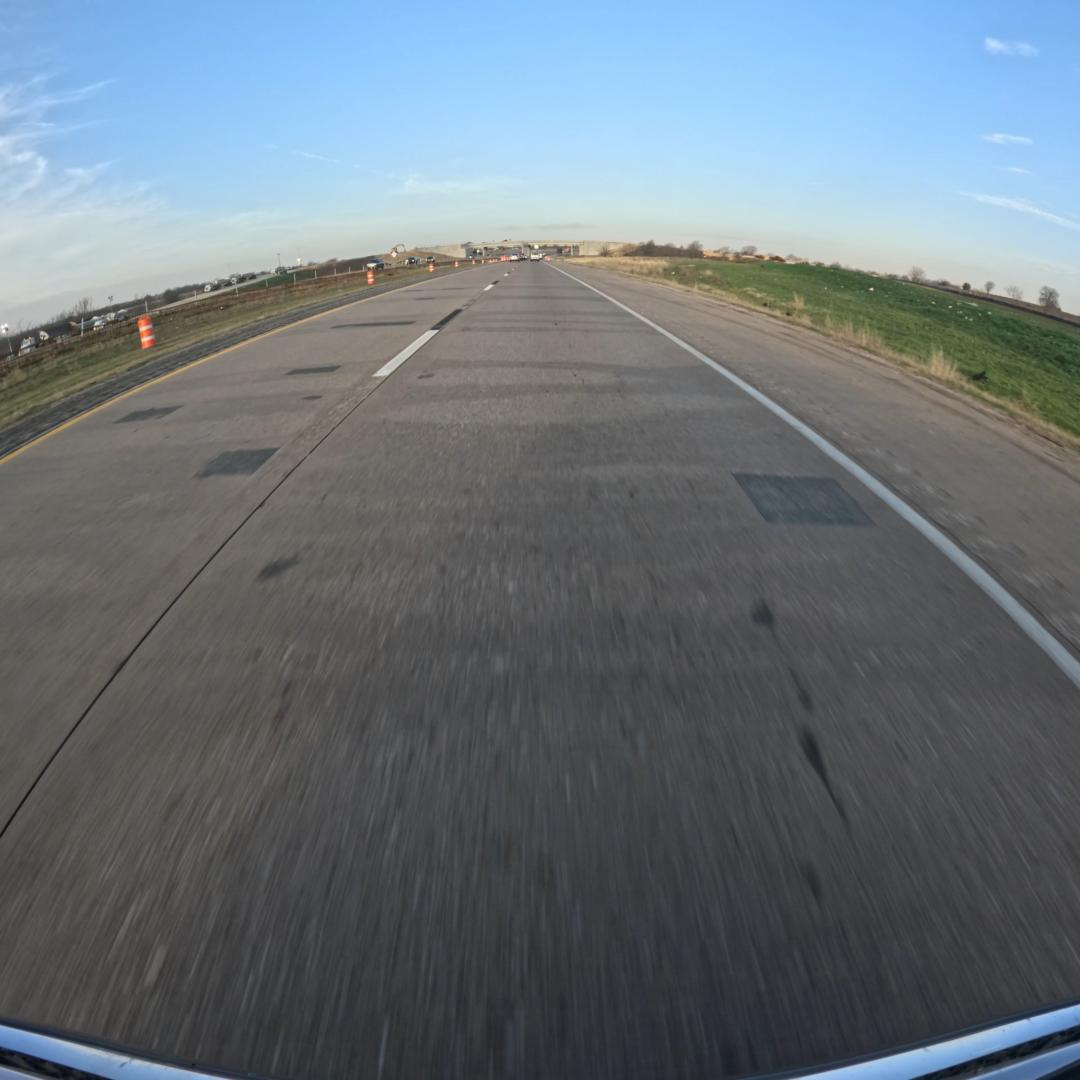lane0: (0, 263, 1080, 1077)
lane1: (0, 264, 511, 834)
